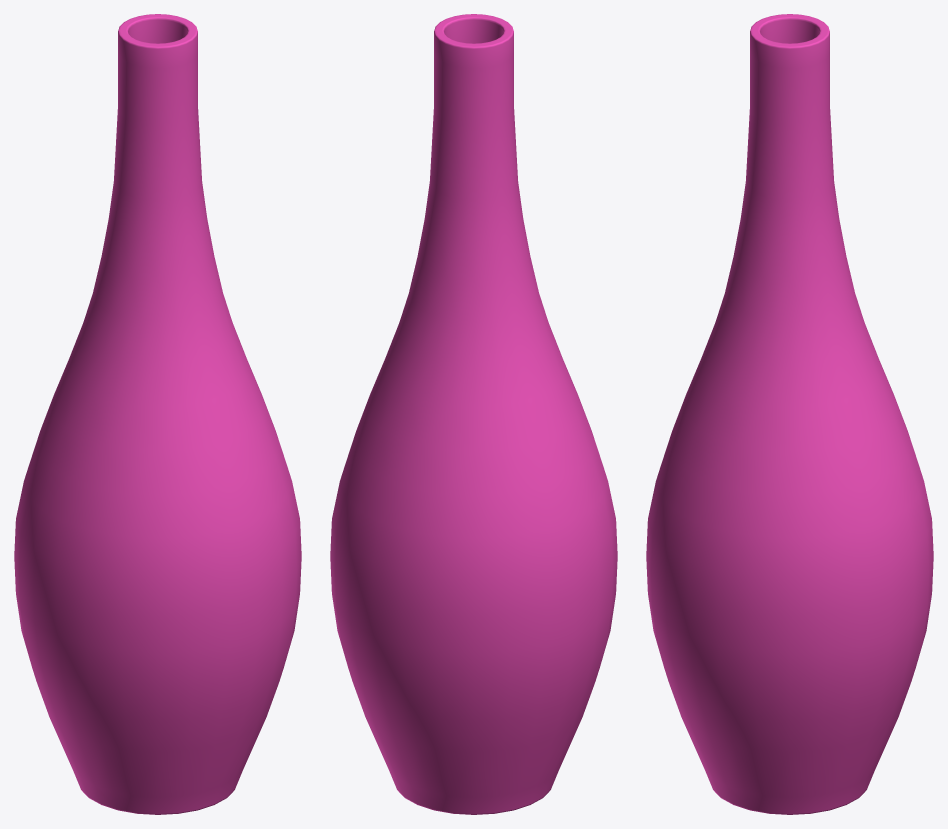
The model's file is VasePink.glb.
The picture shows the model from 3 angles, left to right: view 1: azimuth 30°, elevation 25°; view 2: azimuth 150°, elevation 25°; view 3: azimuth 270°, elevation 25°; orthographic projection.
Parts seen in each view (by area): view 1: Vase_01; view 2: Vase_01; view 3: Vase_01.
Boxes of the visible parts, x1=… form: Vase_01: x1=14, y1=14, x2=301, y2=814; Vase_01: x1=330, y1=14, x2=617, y2=814; Vase_01: x1=646, y1=14, x2=933, y2=814.
Bounding box in the file's own units: 10.4 × 30 × 10.4.
